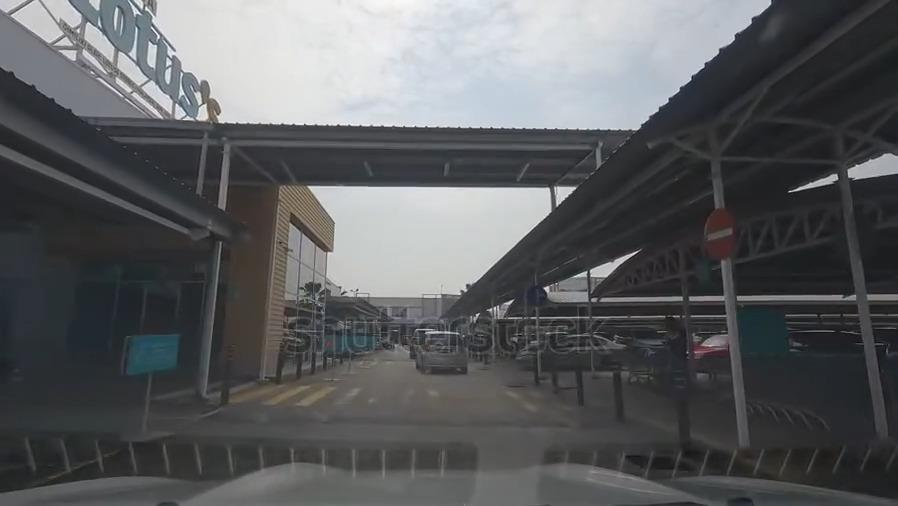car: (516, 334, 631, 368), (787, 325, 881, 362), (419, 331, 470, 375), (617, 319, 670, 359), (692, 331, 730, 363), (411, 326, 439, 362)
manhole: (625, 449, 695, 477), (503, 377, 527, 395)
pedestrian: (235, 371, 577, 423)
person: (663, 315, 695, 402)
